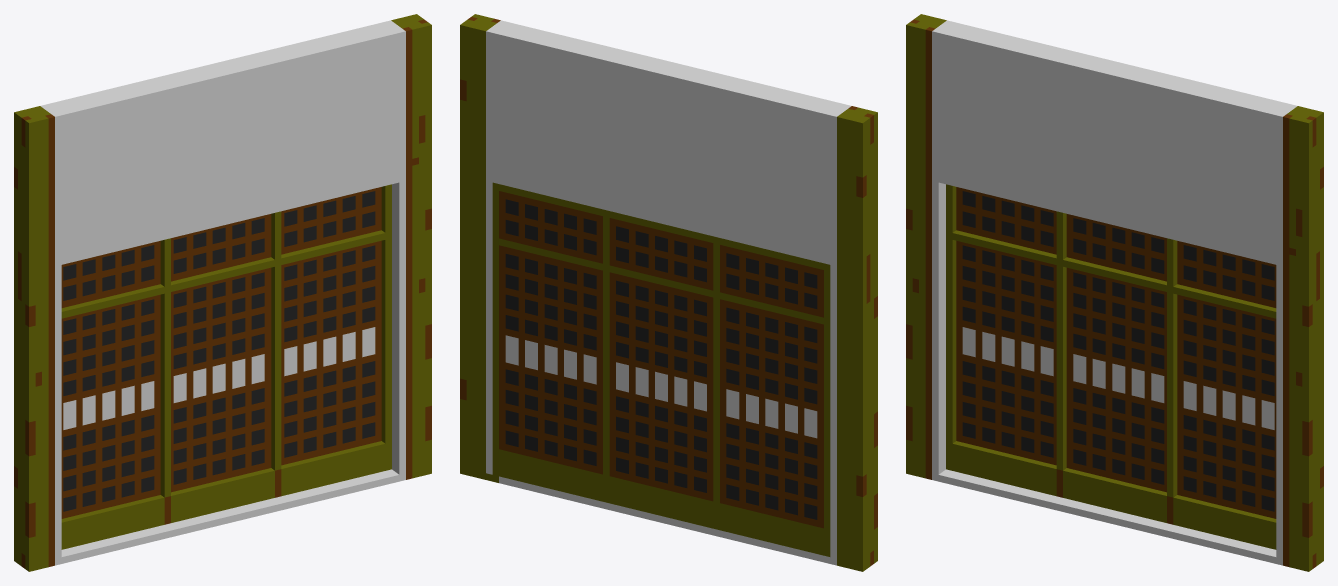
The model's file is classicTwo.glb.
3 views of the same model, side by side, from view 1: azimuth 30°, elevation 25°; view 2: azimuth 150°, elevation 25°; view 3: azimuth 330°, elevation 25° (orthographic).
Visible parts, largest first — view 1: ObjObject; view 2: ObjObject; view 3: ObjObject.
Boxes of the visible parts, x1=… form: ObjObject: x1=14, y1=14, x2=431, y2=571; ObjObject: x1=460, y1=14, x2=877, y2=571; ObjObject: x1=906, y1=14, x2=1323, y2=571.
Bounding box in the file's own units: 6.2 × 6.6 × 0.4.
Materials: 1 (1 with a texture image).
